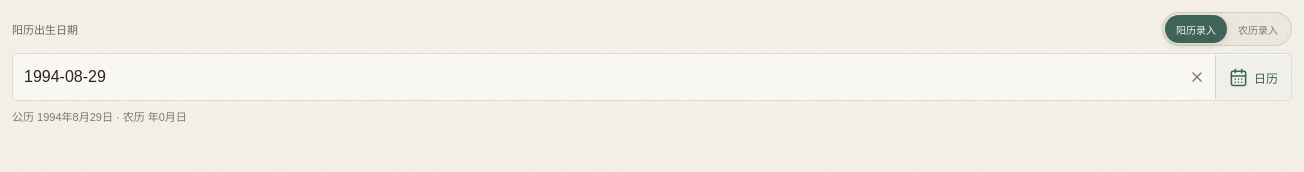
Test case: blocks impossible dates and clears without leaving a stale saved date
The image size is (1304, 172).
Step 1. Replace the text in the field labelled "阳历出生日期" with "1994-02-29" → {"x": 596, "y": 77}, box [13,54,1179,100]
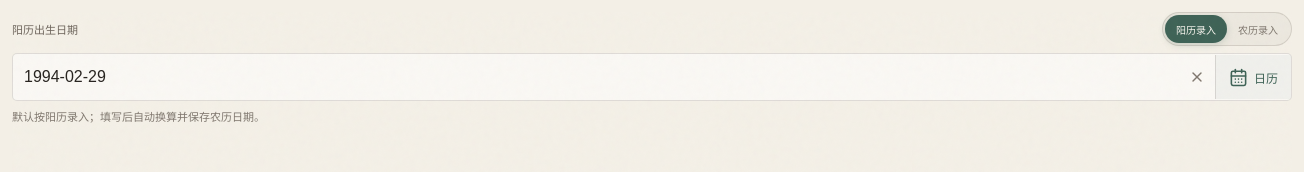
Step 2. Leave the field labelled "阳历出生日期", box [13,54,1179,100]
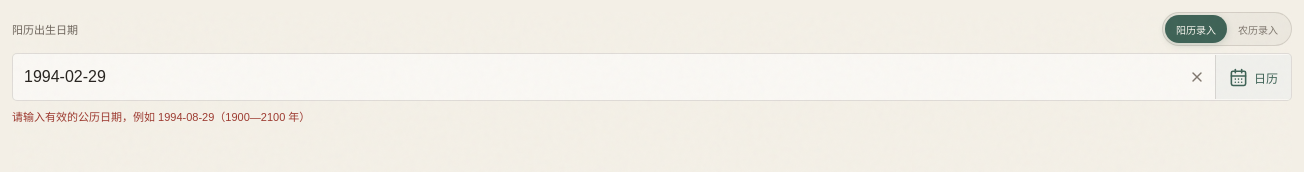
Step 3. Click the button named "清空出生日期" → {"x": 1197, "y": 77}, box [1179,55,1215,99]
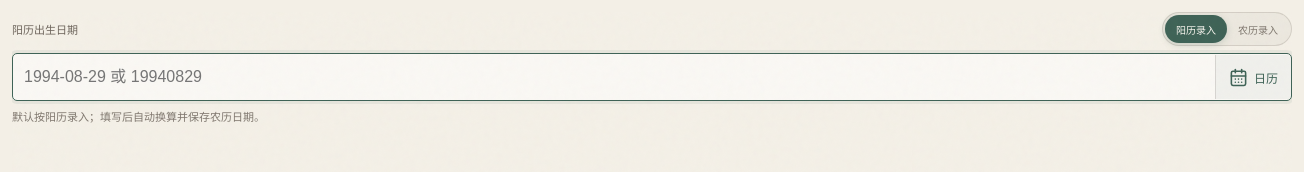
Expected: the field labelled "阳历出生日期" is empty, [13,54,1215,100]
